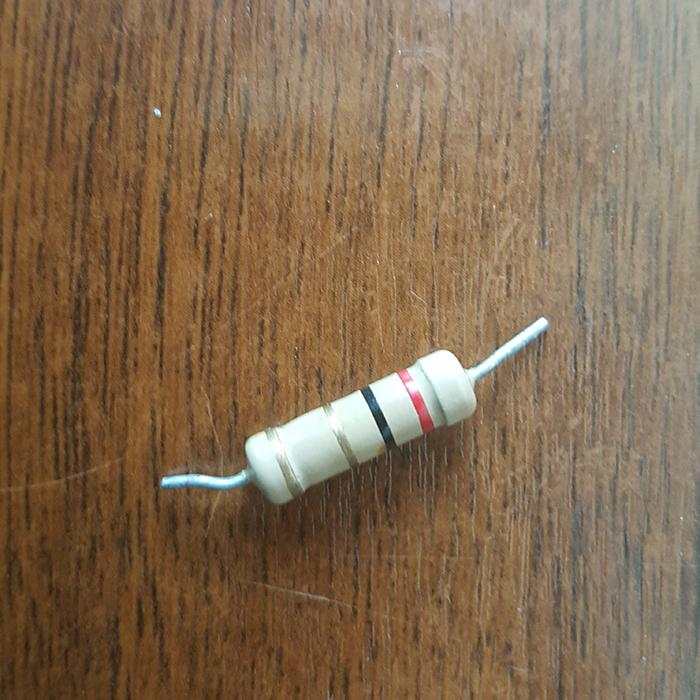resistor: (241, 348, 478, 503)
